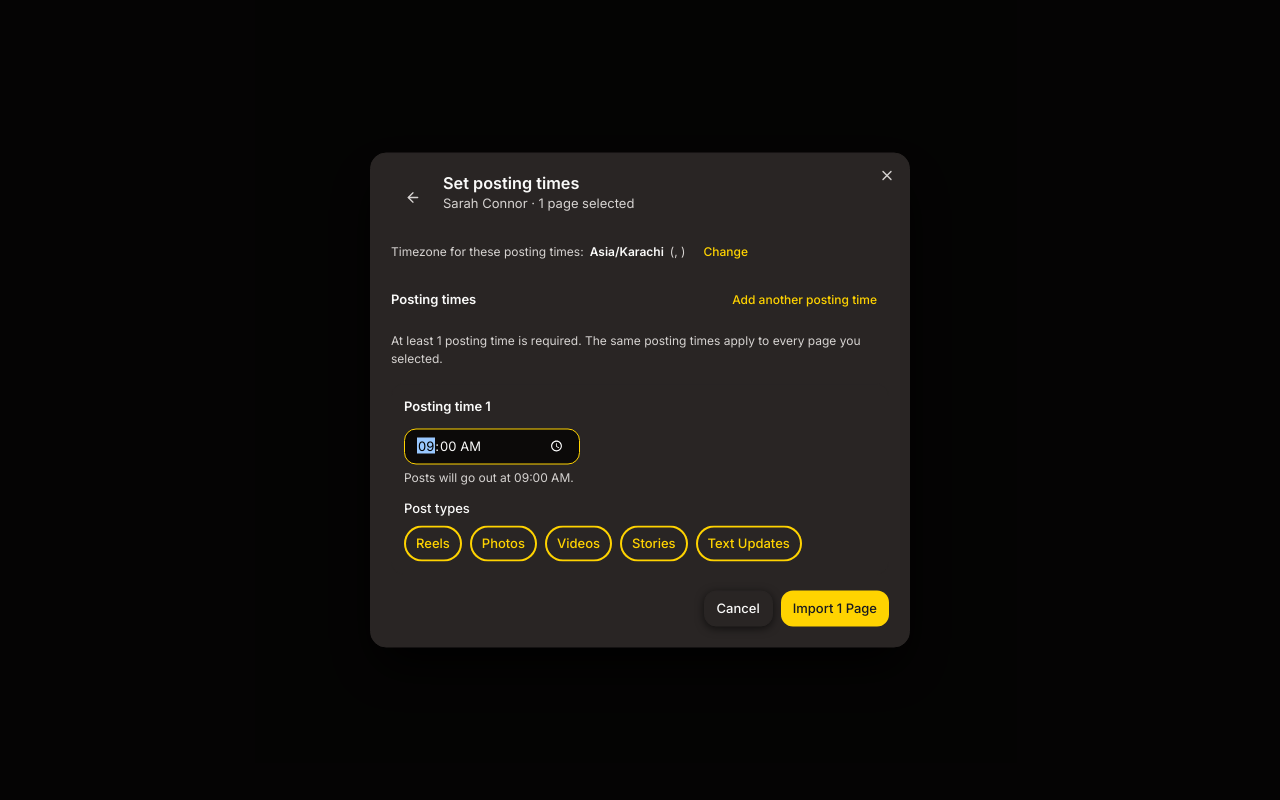
Test: AddPageModal steps 3–4 › a cleared time shows "Choose a time" instead of previewing 09:00 AM
Clear the time field with test id "add-page-posting-time-input-0": [492, 446] box [404, 428, 580, 464]
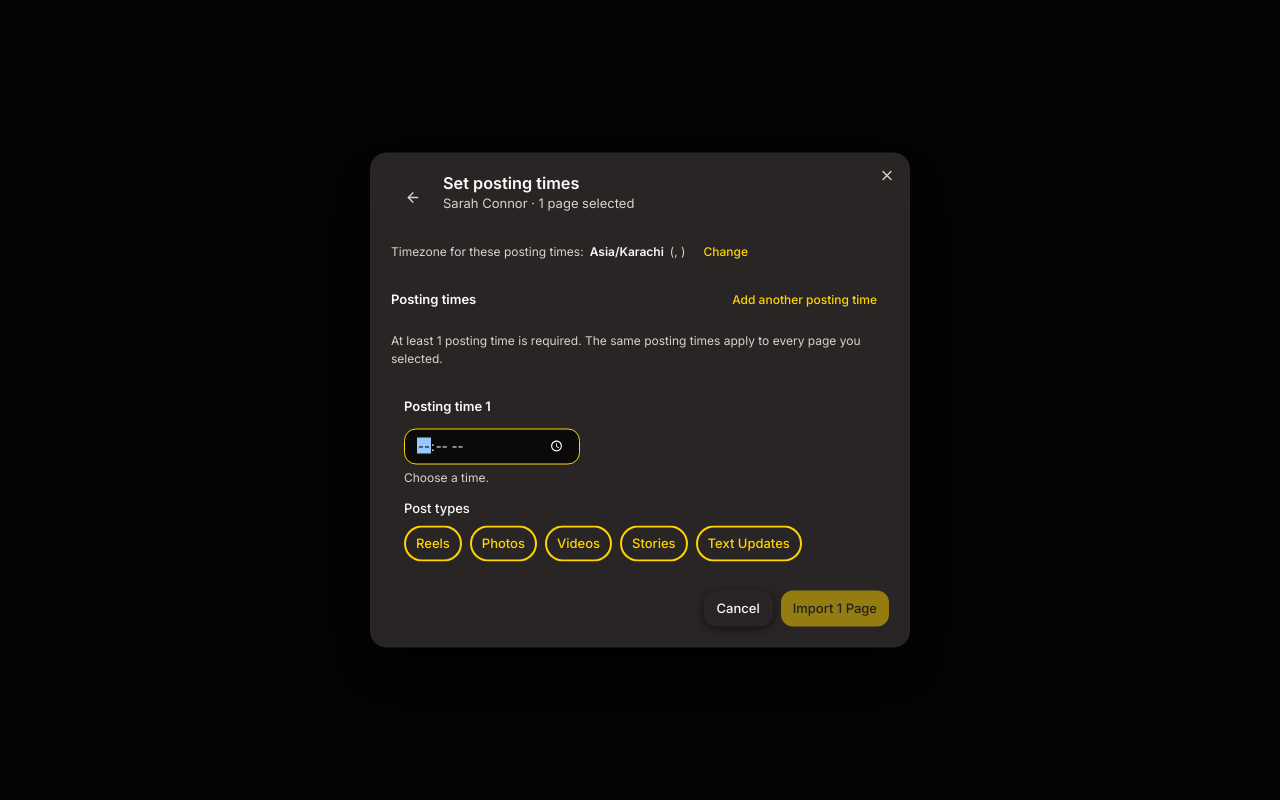
Check: the text "Choose a time." is shown, box [404, 469, 489, 484]
Check: the text "Posts will go out at 09:00 AM" is gone
